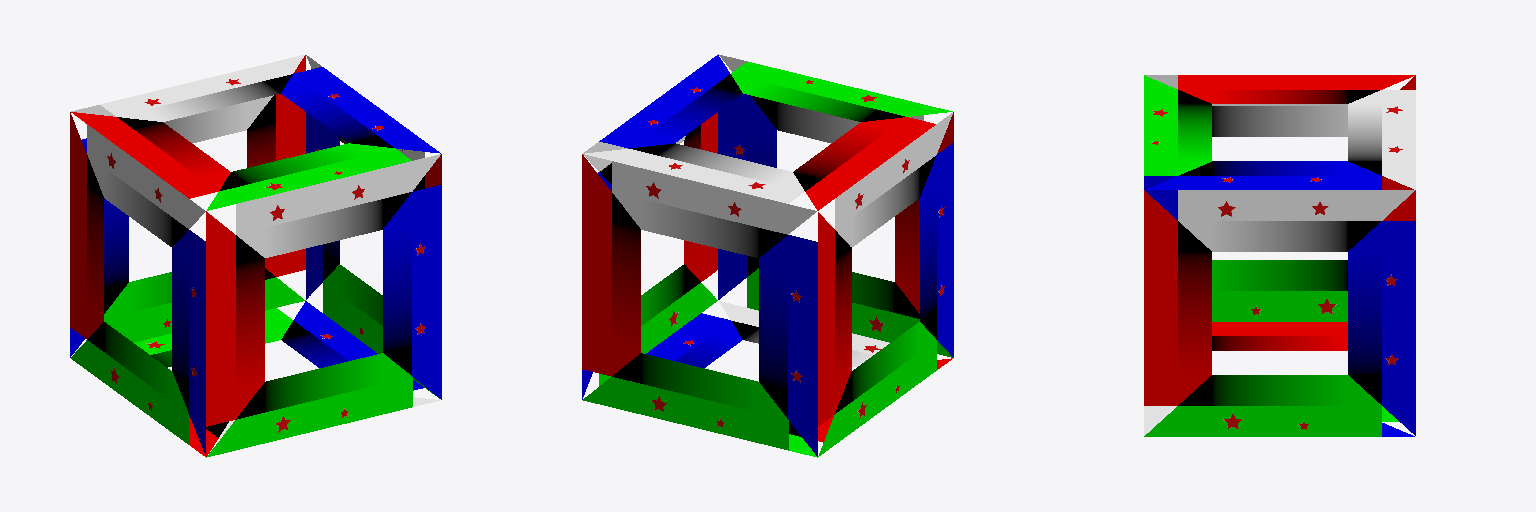
3 renders of one model, left to right at view 1: azimuth 30°, elevation 25°; view 2: azimuth 150°, elevation 25°; view 3: azimuth 270°, elevation 25°, orthographic.
Parts seen in each view (by area): view 1: default; view 2: default; view 3: default.
Boxes of the visible parts, x1=… form: default: x1=70, y1=55, x2=441, y2=457; default: x1=582, y1=54, x2=953, y2=457; default: x1=1144, y1=75, x2=1415, y2=436.
Size of the model in its own units: 2 by 2 by 2.
1 materials, 1 textured.